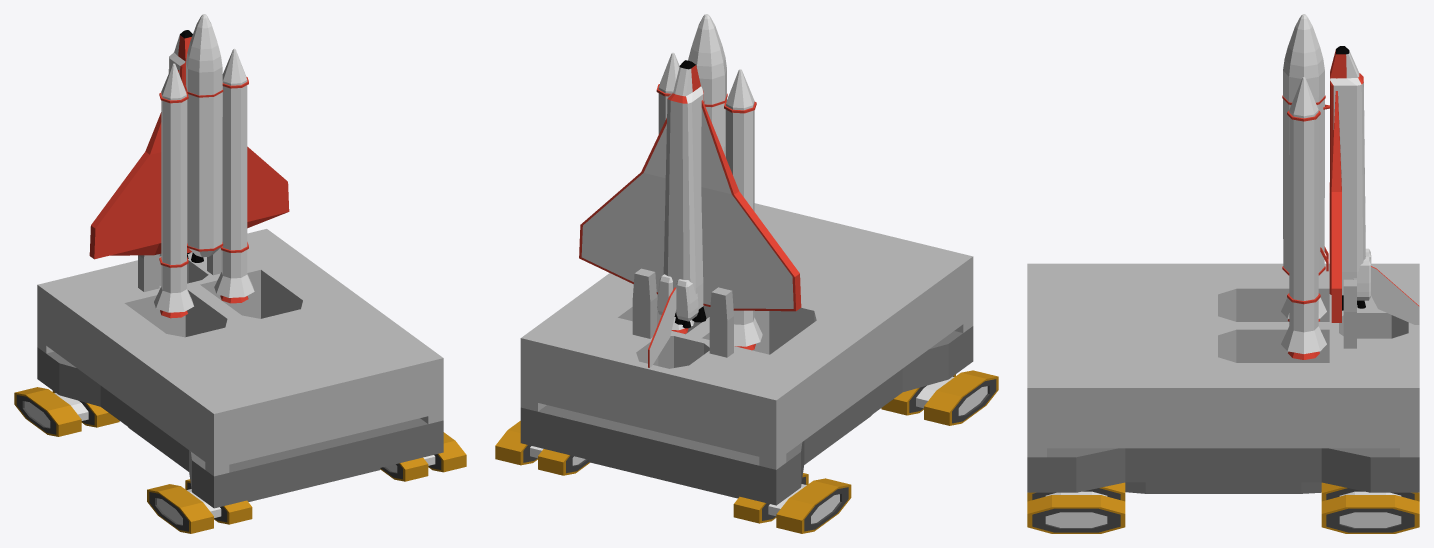
Rendered from Shuttle Red and Crawler.fbx.
3 renders of one model, left to right at view 1: azimuth 30°, elevation 25°; view 2: azimuth 150°, elevation 25°; view 3: azimuth 270°, elevation 25°, orthographic. The views are drawn at different scales.
Parts seen in each view (by area): view 1: Shuttle Red and Crawler; view 2: Shuttle Red and Crawler; view 3: Shuttle Red and Crawler.
Part boxes in pixels (x1,y1,x2,y2): Shuttle Red and Crawler: (14, 14, 466, 533); Shuttle Red and Crawler: (495, 14, 998, 533); Shuttle Red and Crawler: (1027, 14, 1419, 533).
Size of the model in its own units: 720 by 1000 by 800.
